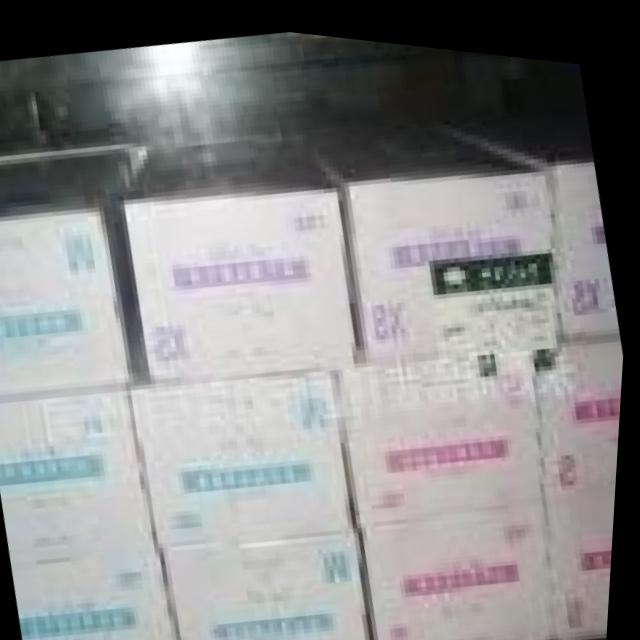box: (303, 112, 563, 357), (126, 129, 360, 382), (131, 353, 359, 545), (435, 102, 622, 325), (338, 336, 549, 518), (0, 147, 148, 394), (369, 489, 562, 640), (0, 385, 162, 561), (169, 524, 378, 640), (534, 318, 627, 487), (22, 543, 183, 640), (548, 479, 620, 628)
